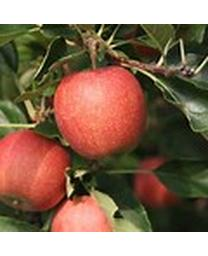apple: (52, 65, 148, 162), (1, 130, 71, 212), (52, 194, 116, 232)
